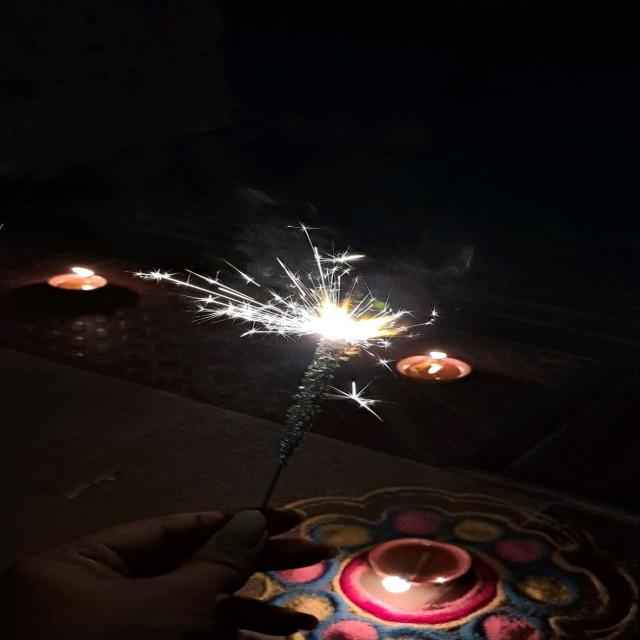fire: (295, 288, 405, 340)
